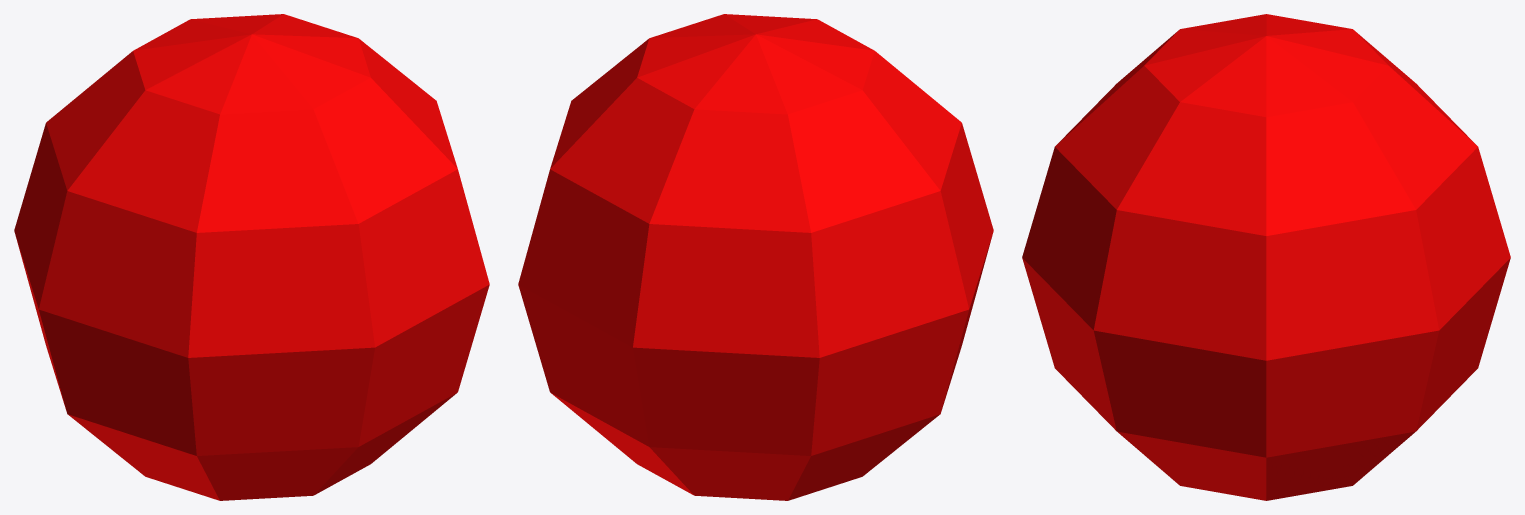
The model's file is Bubble_Fire.obj.
The picture shows the model from 3 angles, left to right: view 1: azimuth 30°, elevation 25°; view 2: azimuth 150°, elevation 25°; view 3: azimuth 270°, elevation 25°; orthographic projection.
Visible parts, largest first — view 1: fire_bubble_Icosphere; view 2: fire_bubble_Icosphere; view 3: fire_bubble_Icosphere.
Boxes of the visible parts, x1,y1,x2,y2 form: fire_bubble_Icosphere: (14, 14, 489, 500); fire_bubble_Icosphere: (518, 14, 993, 500); fire_bubble_Icosphere: (1022, 14, 1510, 500).
Size of the model in its own units: 0.1 by 0.1 by 0.1.
1 material, 1 textured.
